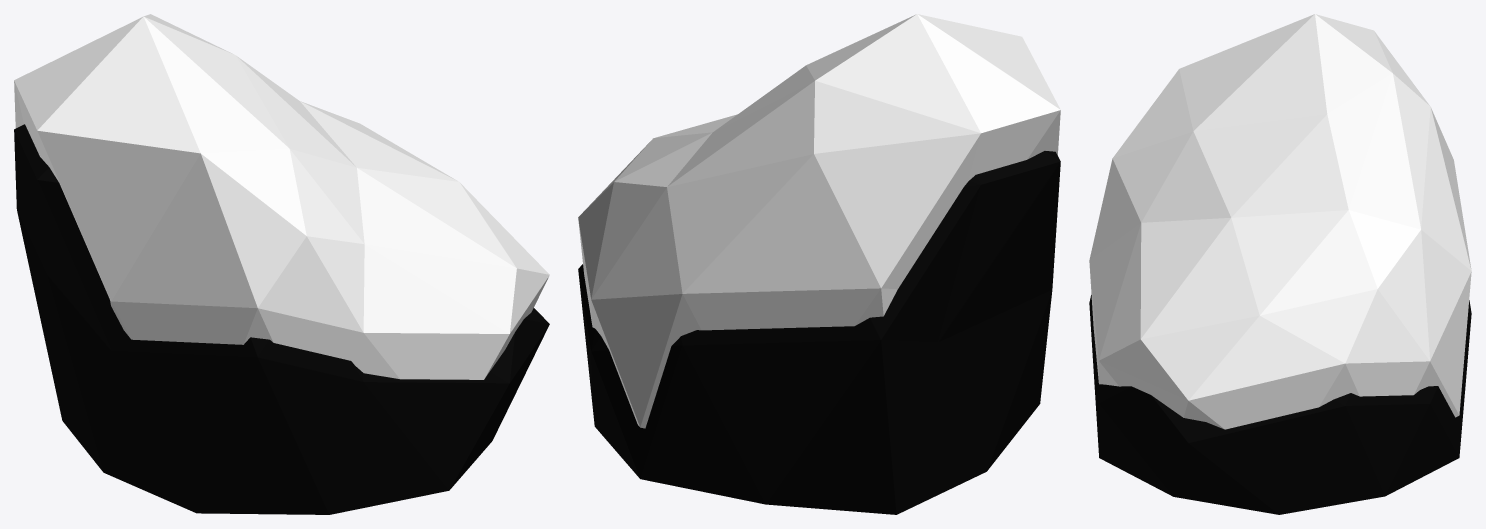
Rendered from Snow_rock_0.fbx.
3 renders of one model, left to right at view 1: azimuth 30°, elevation 25°; view 2: azimuth 150°, elevation 25°; view 3: azimuth 270°, elevation 25°, orthographic. The views are drawn at different scales.
Visible parts, largest first — view 1: Snow_rock_0; view 2: Snow_rock_0; view 3: Snow_rock_0.
Part boxes in pixels (x1=…): Snow_rock_0: x1=14, y1=14, x2=549, y2=514; Snow_rock_0: x1=578, y1=14, x2=1060, y2=514; Snow_rock_0: x1=1089, y1=14, x2=1471, y2=514.
Bounding box in the file's own units: 2 × 1.82 × 1.69.
1 material, 1 textured.
